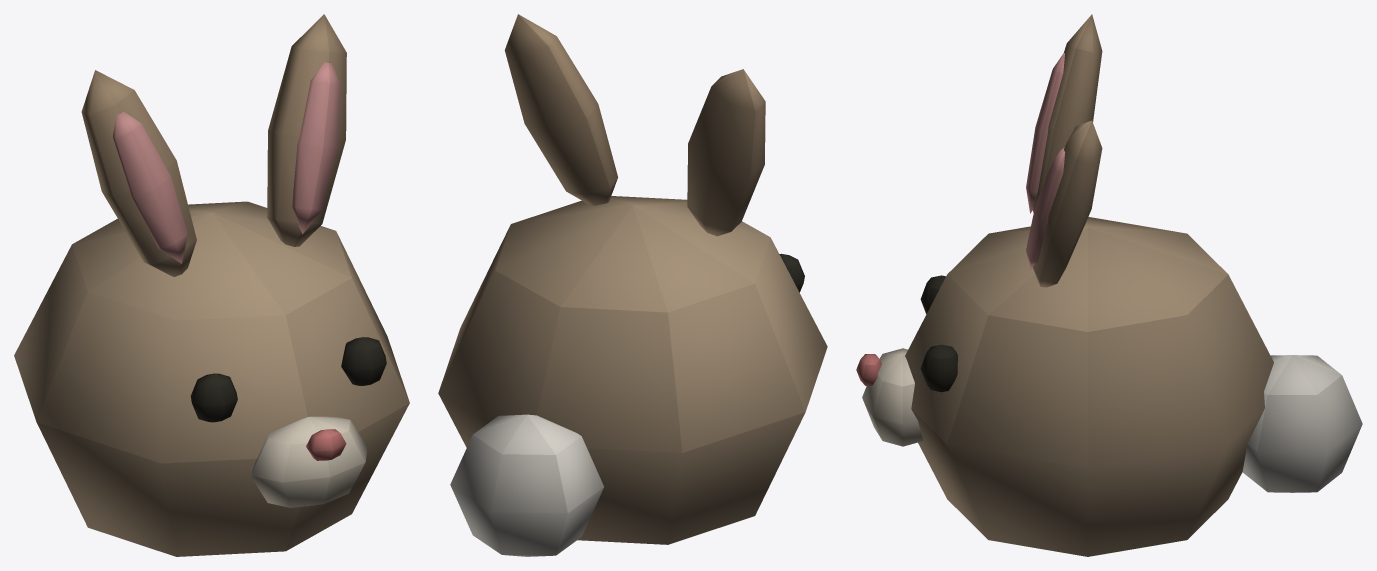
Rendered from Rabbit.glb.
3 renders of one model, left to right at view 1: azimuth 30°, elevation 25°; view 2: azimuth 150°, elevation 25°; view 3: azimuth 270°, elevation 25°, orthographic. The views are drawn at different scales.
Parts seen in each view (by area): view 1: Rabbit; view 2: Rabbit; view 3: Rabbit.
Part boxes in pixels (left/top/right/bottom): Rabbit: left=14, top=14, right=409, bottom=556; Rabbit: left=438, top=14, right=827, bottom=556; Rabbit: left=856, top=14, right=1362, bottom=556.
Size of the model in its own units: 0.33 by 0.4515 by 0.433.
